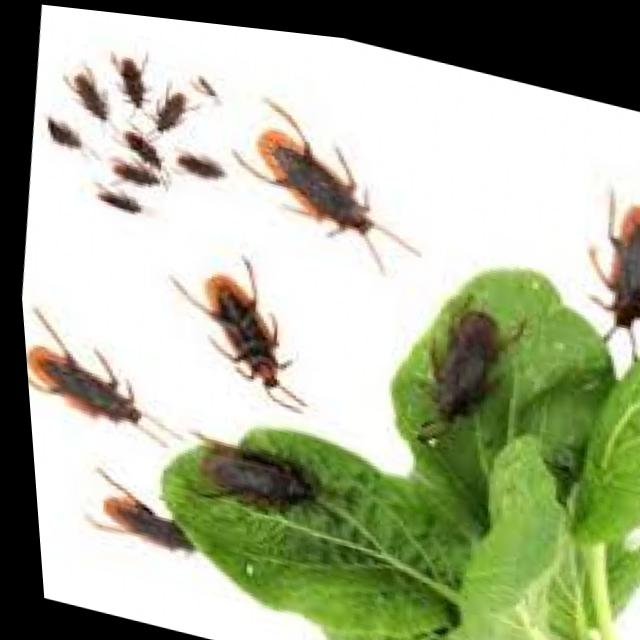Cockroach: (211, 78, 426, 286), (375, 238, 549, 486), (146, 215, 329, 437), (17, 300, 195, 481), (148, 393, 350, 550), (560, 126, 640, 376), (53, 456, 211, 579)
